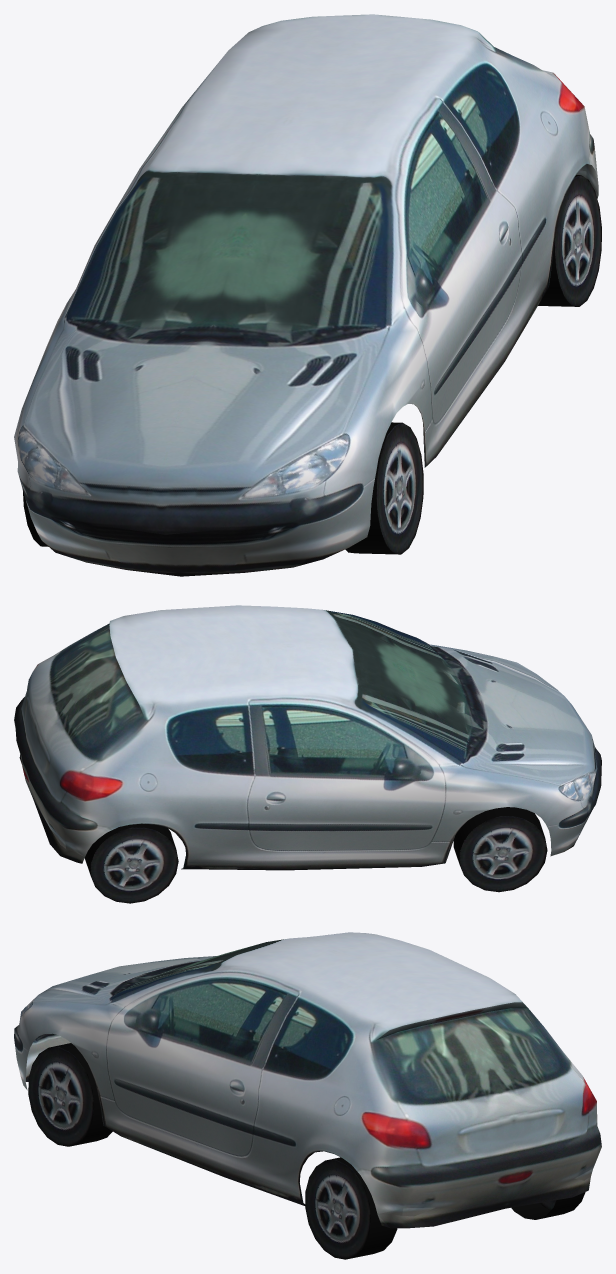
File: ANIM_CARS-1440.FBX
3 renders of one model, top to bottom at view 1: azimuth 30°, elevation 25°; view 2: azimuth 150°, elevation 25°; view 3: azimuth 270°, elevation 25°, orthographic. The views are drawn at different scales.
Parts seen in each view (by area): view 1: model_KLB_Car_Traffic_v01_006; view 2: model_KLB_Car_Traffic_v01_006; view 3: model_KLB_Car_Traffic_v01_006.
Boxes of the visible parts, x1,y1,x2,y2 form: model_KLB_Car_Traffic_v01_006: (14, 14, 601, 576); model_KLB_Car_Traffic_v01_006: (14, 605, 601, 903); model_KLB_Car_Traffic_v01_006: (14, 932, 601, 1259).
Bounding box in the file's own units: 6.3 × 2.92 × 5.99.
2 materials, 2 textured.
